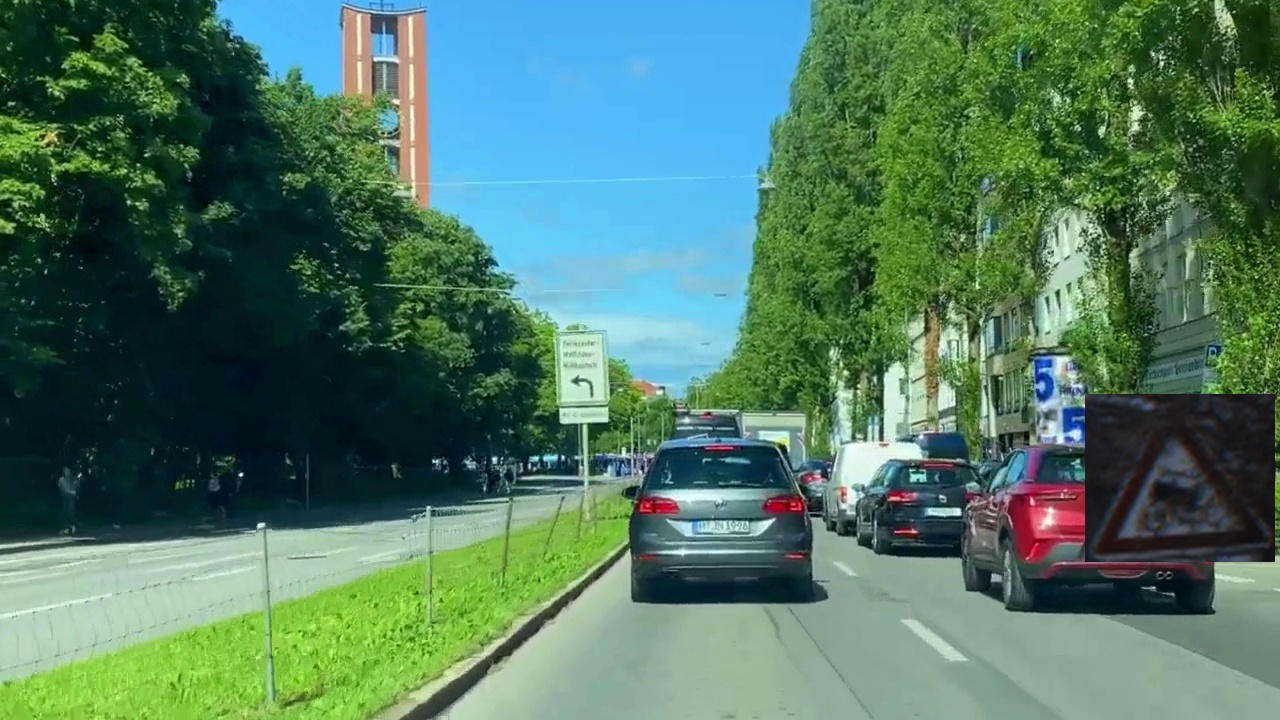Slippery: (1085, 394, 1275, 562)
